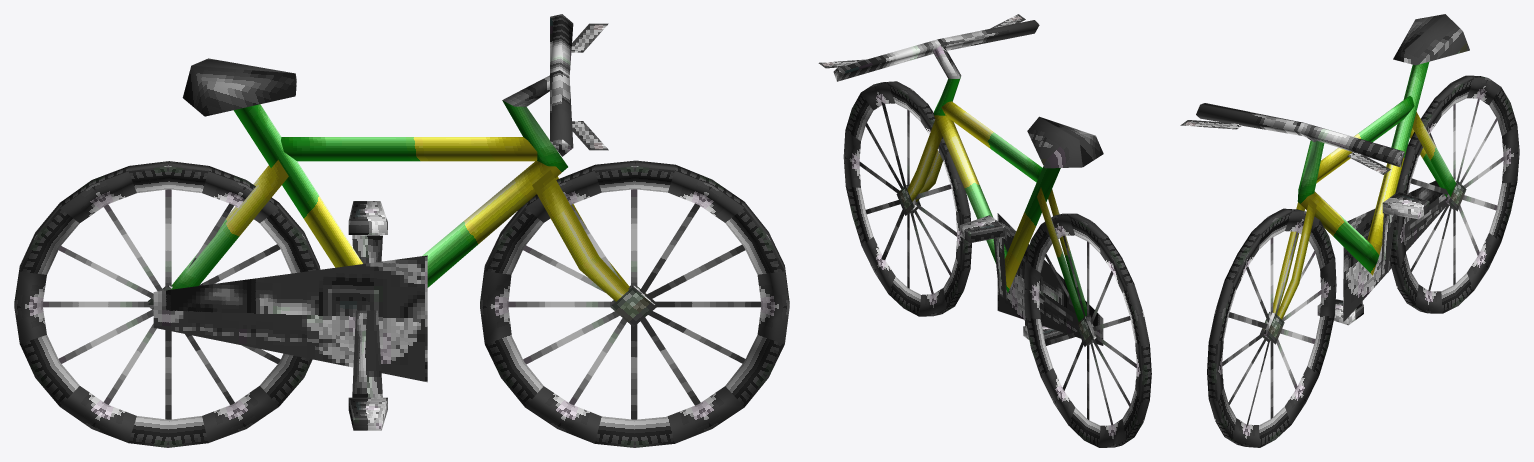
The model's file is rmk_tnt_bike.dae.
3 renders of one model, left to right at view 1: azimuth 30°, elevation 25°; view 2: azimuth 150°, elevation 25°; view 3: azimuth 270°, elevation 25°, orthographic. The views are drawn at different scales.
Visible parts, largest first — view 1: rmk_tnt_bike; view 2: rmk_tnt_bike; view 3: rmk_tnt_bike.
Boxes of the visible parts, <box> form: rmk_tnt_bike: <box>14,14,789,447</box>; rmk_tnt_bike: <box>818,14,1151,447</box>; rmk_tnt_bike: <box>1180,14,1519,447</box>.
Size of the model in its own units: 55.2 by 34.1 by 35.29.
2 materials, 2 textured.
